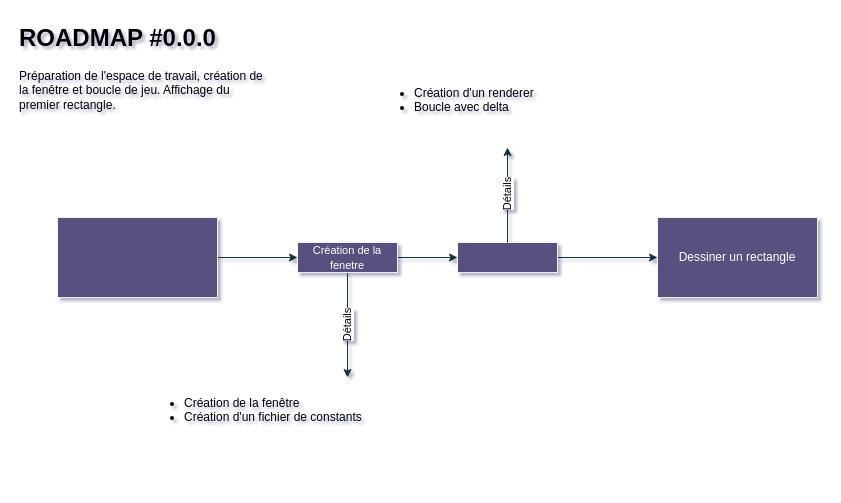
The diagram is 841 pixels wide and 503 high, and some of its shapes have lost their labels. Each missing label, with the box of its shape:
Boucle de jeu: (456, 242, 558, 272)
Installer OpenGL sur Visual C++: (56, 216, 218, 298)
